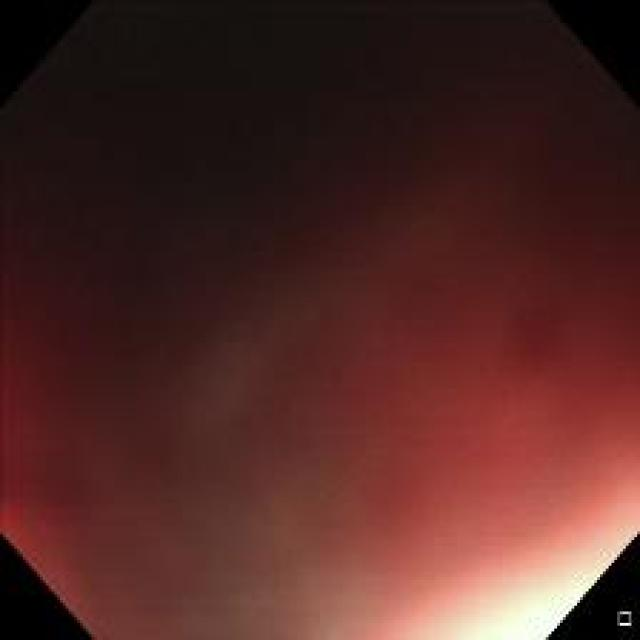color misalignment: (2, 5, 638, 630)
contrast: (38, 14, 511, 325)
saturation: (480, 590, 569, 629)
